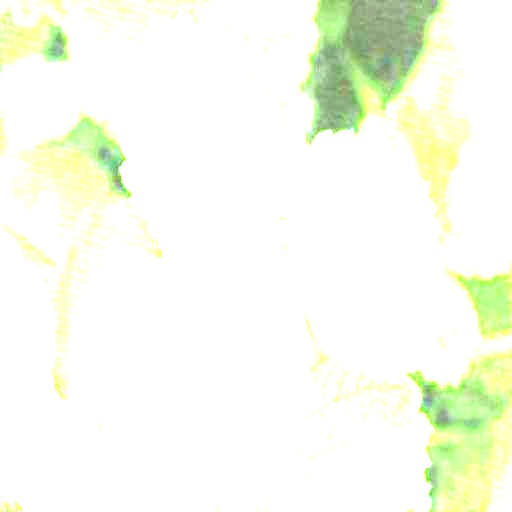Leaf Spot: (119, 11, 308, 246), (289, 128, 449, 384)
